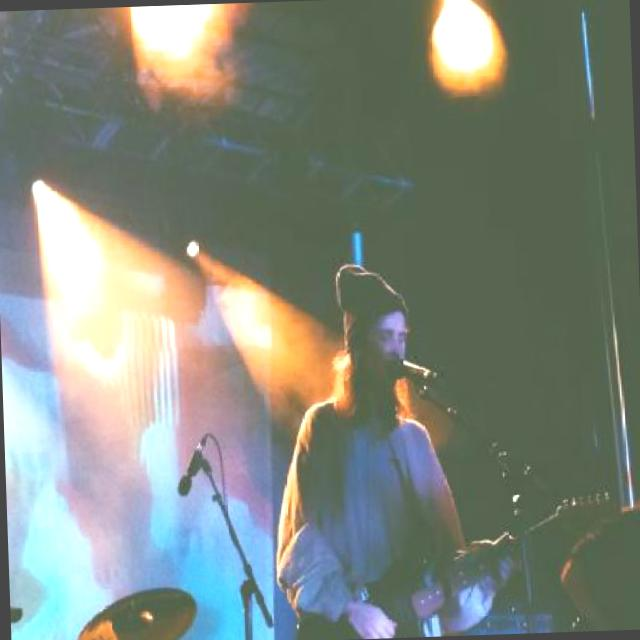Person: (277, 260, 477, 640), (555, 500, 640, 631)
